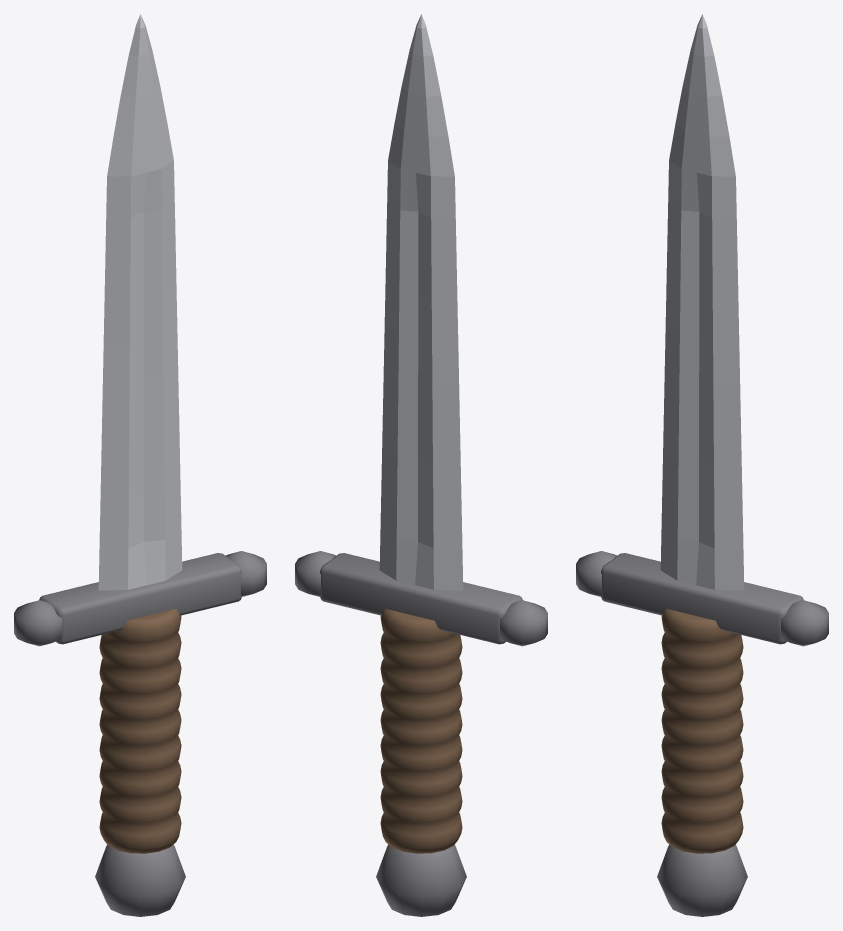
File: dagger_steel.glb
The picture shows the model from 3 angles, left to right: view 1: azimuth 30°, elevation 25°; view 2: azimuth 150°, elevation 25°; view 3: azimuth 330°, elevation 25°; orthographic projection.
Visible parts, largest first — view 1: dagger_steel_blade, dagger_steel_grip, dagger_steel_guard, dagger_steel_pommel, dagger_steel_quillon-1, dagger_steel_quillon1; view 2: dagger_steel_blade, dagger_steel_grip, dagger_steel_guard, dagger_steel_pommel, dagger_steel_quillon-1, dagger_steel_quillon1; view 3: dagger_steel_blade, dagger_steel_grip, dagger_steel_guard, dagger_steel_pommel, dagger_steel_quillon1, dagger_steel_quillon-1.
Boxes of the visible parts, x1,y1,x2,y2 form: dagger_steel_blade: [98, 14, 182, 590]; dagger_steel_grip: [99, 608, 181, 853]; dagger_steel_guard: [39, 553, 241, 644]; dagger_steel_pommel: [95, 844, 185, 916]; dagger_steel_quillon-1: [14, 600, 61, 646]; dagger_steel_quillon1: [226, 551, 266, 596]; dagger_steel_blade: [379, 14, 463, 590]; dagger_steel_grip: [380, 608, 462, 853]; dagger_steel_guard: [320, 553, 522, 644]; dagger_steel_pommel: [376, 844, 466, 916]; dagger_steel_quillon-1: [500, 600, 547, 646]; dagger_steel_quillon1: [295, 551, 335, 596]; dagger_steel_blade: [660, 14, 744, 590]; dagger_steel_grip: [661, 608, 743, 853]; dagger_steel_guard: [601, 553, 803, 644]; dagger_steel_pommel: [657, 844, 747, 916]; dagger_steel_quillon1: [781, 600, 828, 646]; dagger_steel_quillon-1: [576, 551, 616, 596].
Size of the model in its own units: 0.1 by 0.35 by 0.032.
